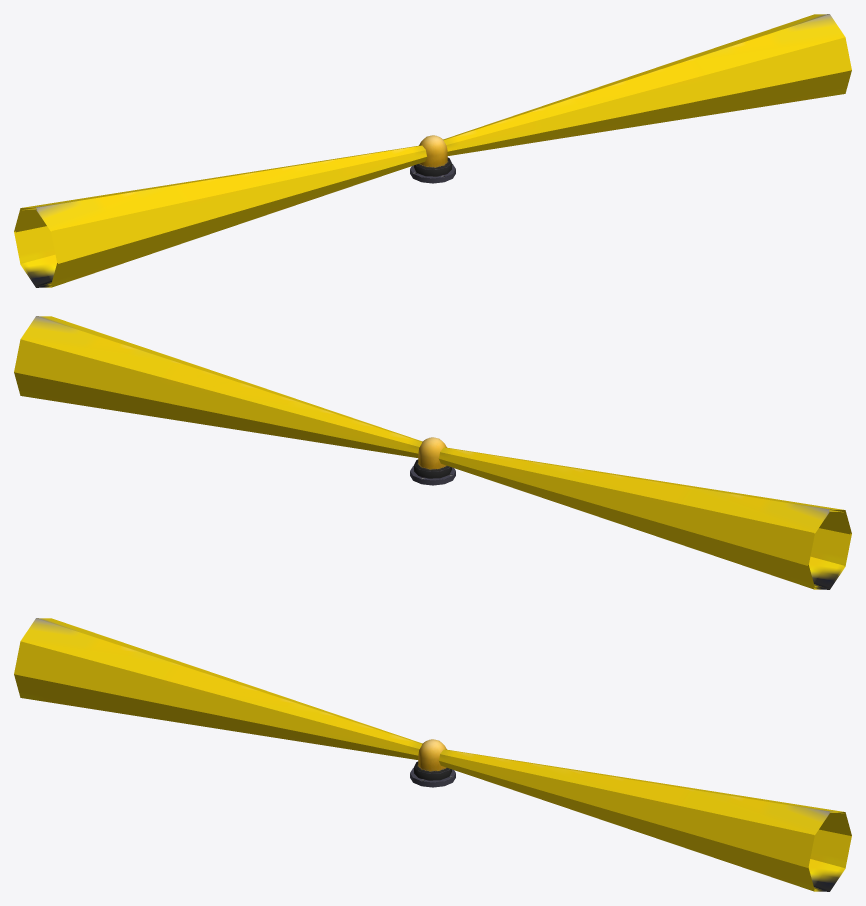
The model's file is light_1.obj.
The picture shows the model from 3 angles, top to bottom: view 1: azimuth 30°, elevation 25°; view 2: azimuth 150°, elevation 25°; view 3: azimuth 330°, elevation 25°; orthographic projection.
Visible parts, largest first — view 1: light, body; view 2: light, body; view 3: light, body.
Boxes of the visible parts, x1,y1,x2,y2 form: light: [14, 14, 851, 287]; body: [410, 157, 455, 183]; light: [14, 316, 851, 589]; body: [410, 459, 455, 485]; light: [14, 618, 851, 891]; body: [410, 761, 455, 787].
Bounding box in the file's own units: 5 × 0.482 × 0.482.
Materials: 2 (2 with a texture image).
